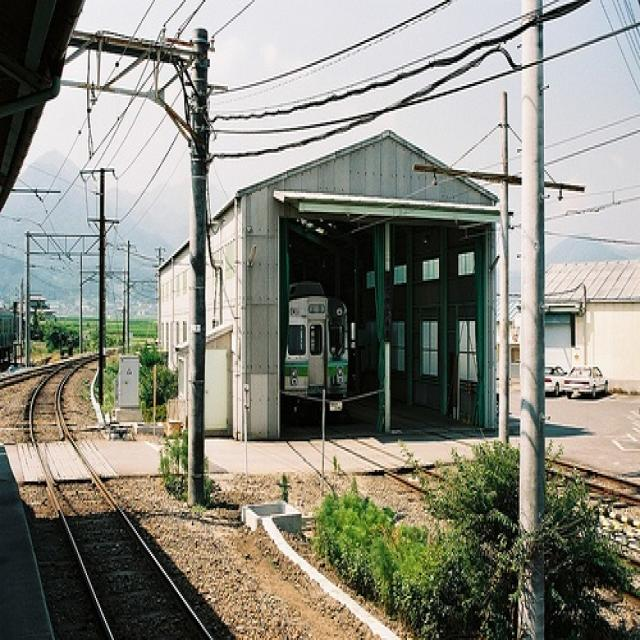car: (564, 367, 610, 399), (548, 365, 567, 395)
train: (285, 279, 351, 414)
